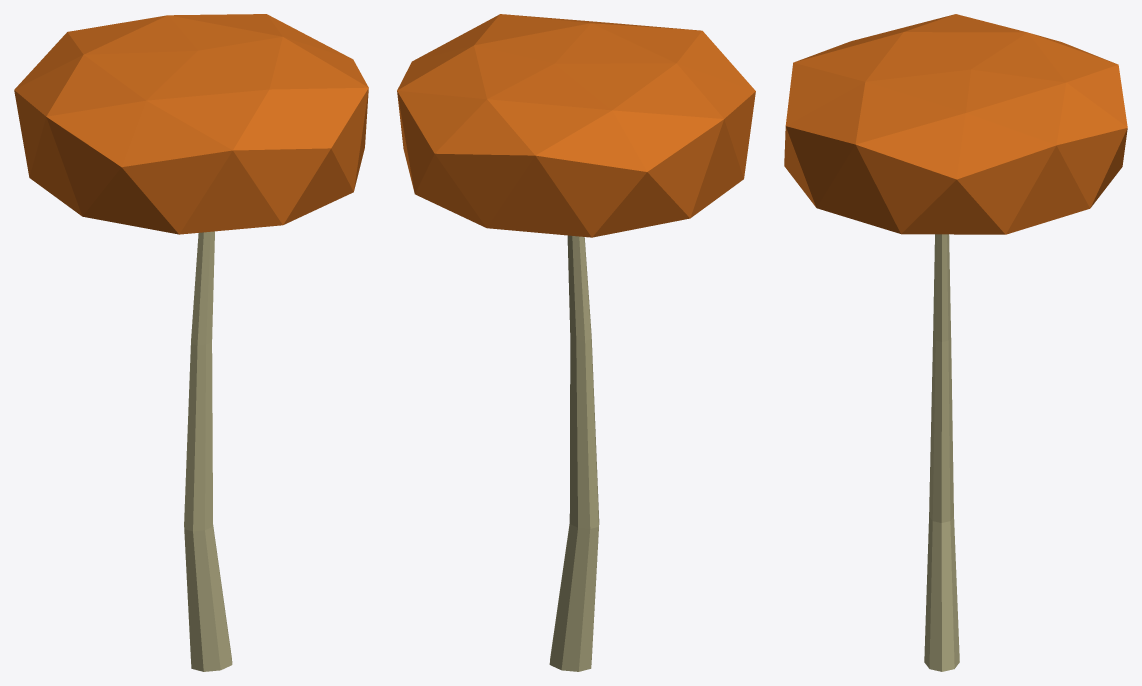
The model's file is flat_mushroom_tall_orange.fbx.
The picture shows the model from 3 angles, left to right: view 1: azimuth 30°, elevation 25°; view 2: azimuth 150°, elevation 25°; view 3: azimuth 270°, elevation 25°; orthographic projection. The views are drawn at different scales.
Parts seen in each view (by area): view 1: flat_mushroom_tall_orange; view 2: flat_mushroom_tall_orange; view 3: flat_mushroom_tall_orange.
Part boxes in pixels (x1,y1,x2,y2): flat_mushroom_tall_orange: (14, 14, 368, 671); flat_mushroom_tall_orange: (397, 14, 755, 671); flat_mushroom_tall_orange: (784, 14, 1127, 671).
Size of the model in its own units: 61.03 by 114 by 59.95.
